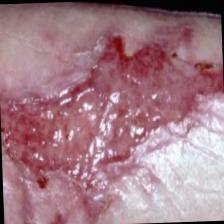burns: (0, 31, 224, 208)
